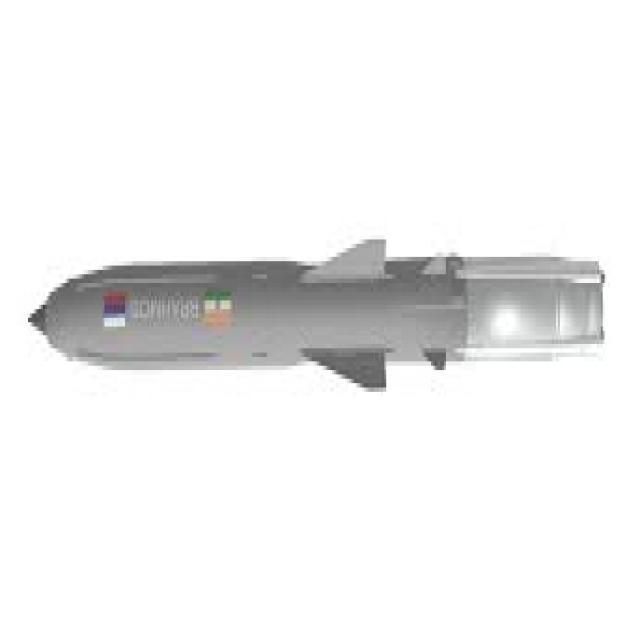missile: (30, 223, 606, 393)
